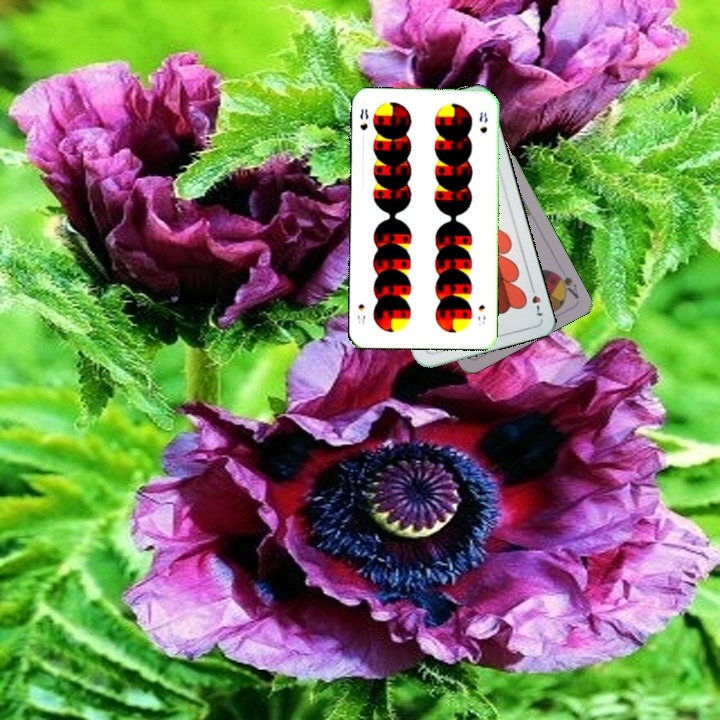H7: (526, 280, 546, 319)
S8: (356, 105, 371, 133), (474, 301, 488, 328)
SA: (550, 267, 581, 301)
